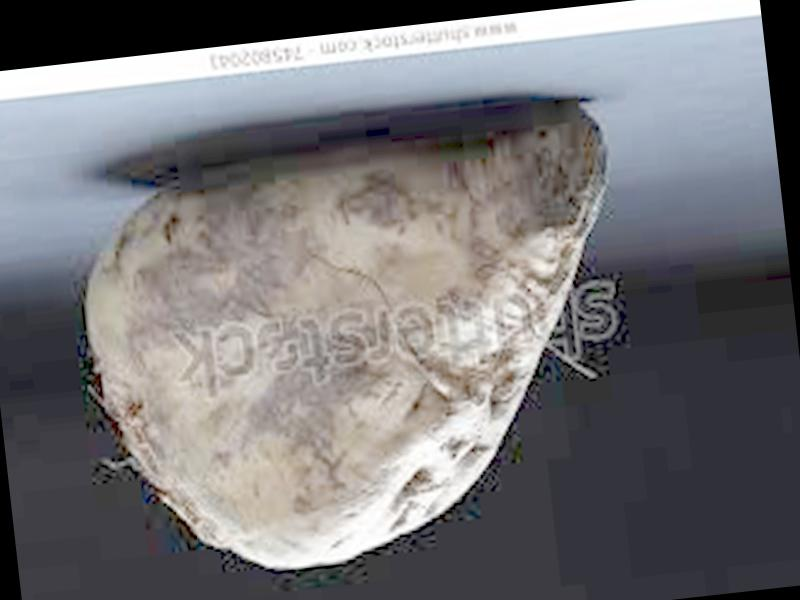Beet: (62, 107, 640, 585)
